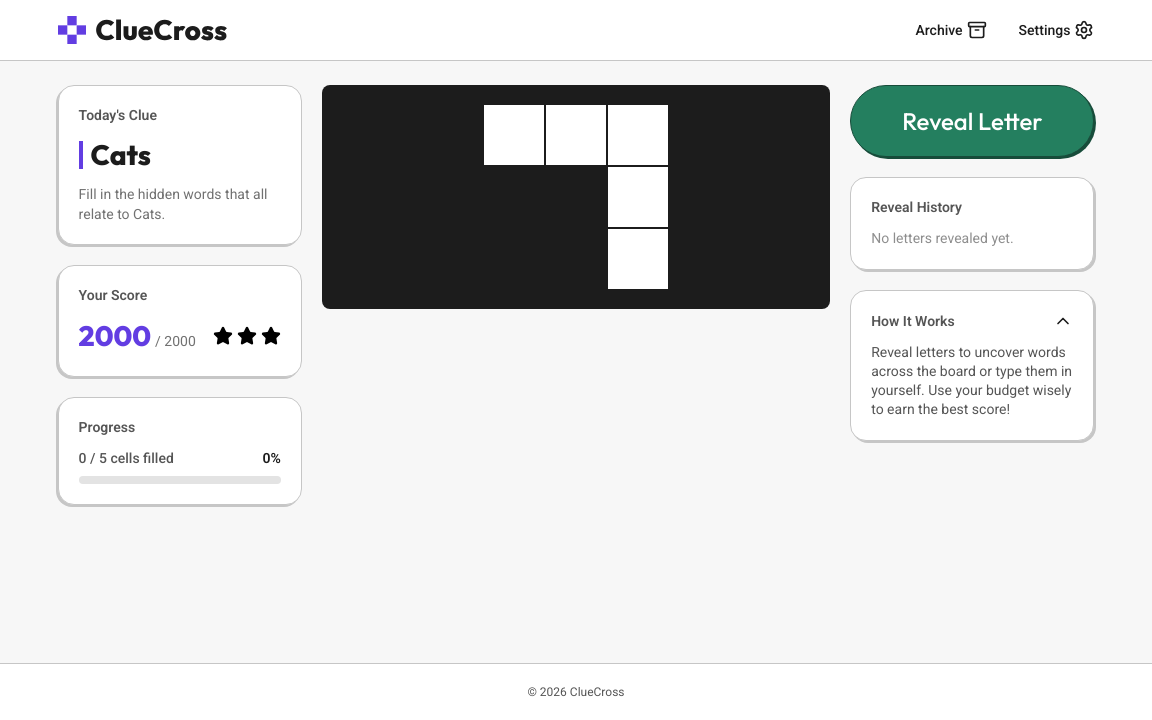
Test: impossible-letter alert › clears immediately when the same cell gets an eligible letter
Step 1. Click the button "Reveal Letter" → click(972, 121), box [850,85,1094,157]
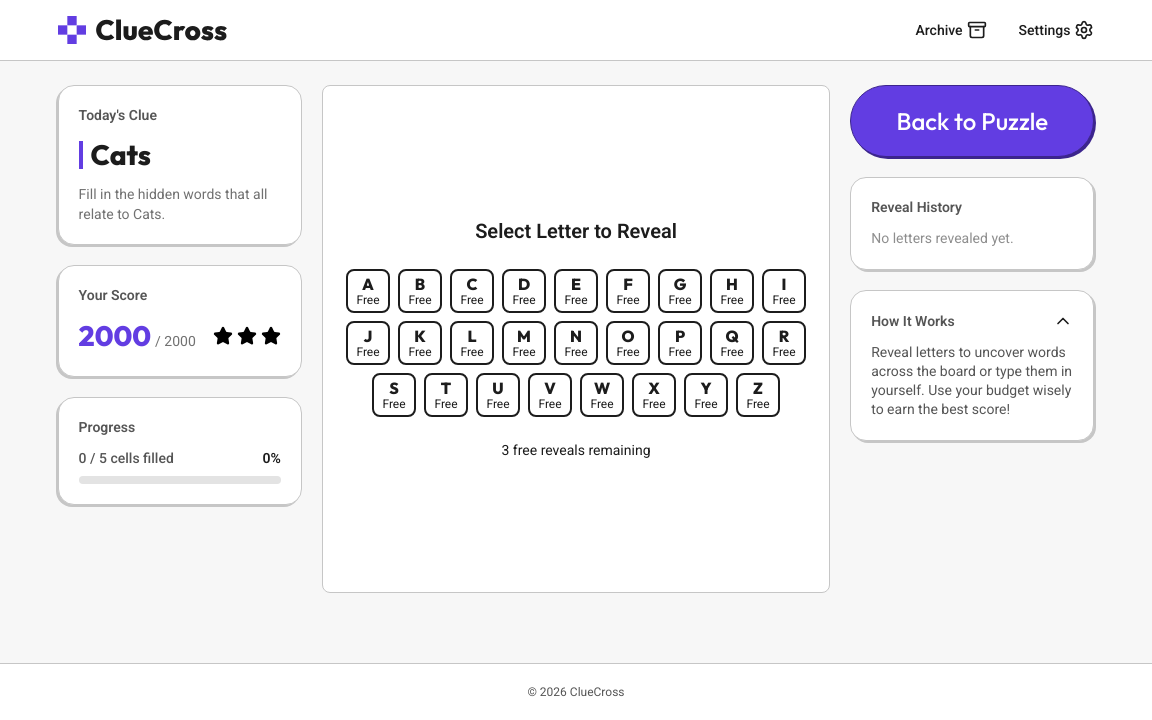
Step 2. Click the button with test id "letter-A" → click(368, 291), box [346,269,390,313]
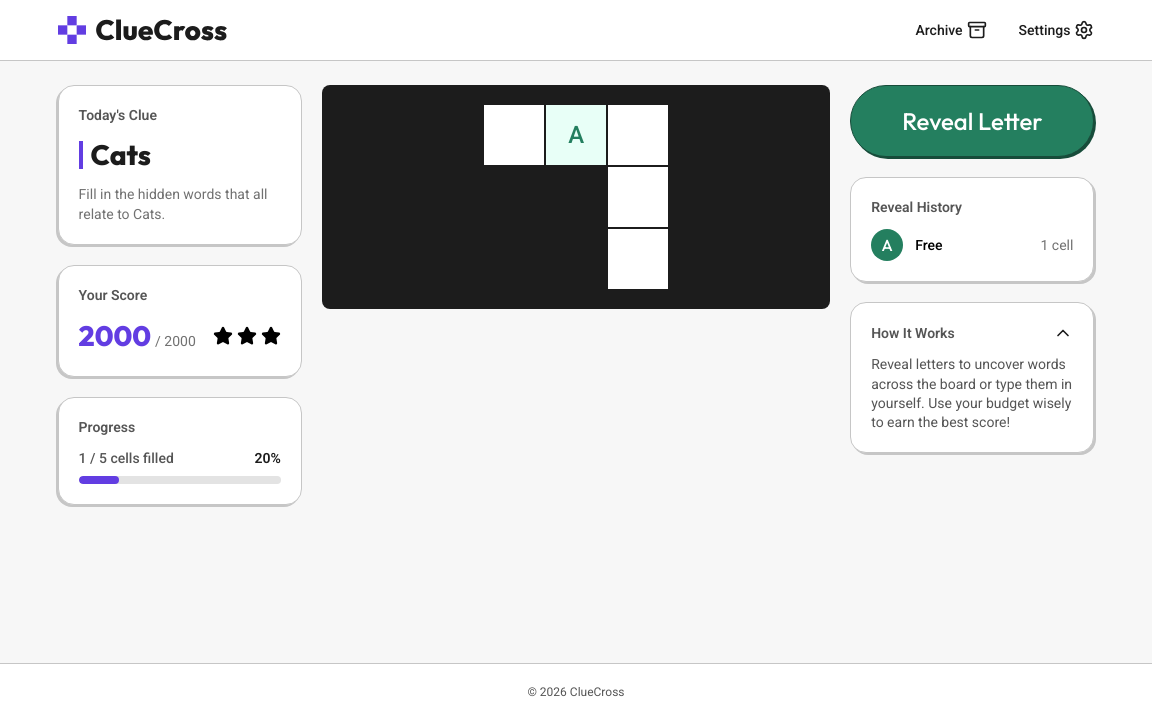
Step 3. Click the 4th field named "Editable, empty" → click(638, 259), box [608,229,668,289]
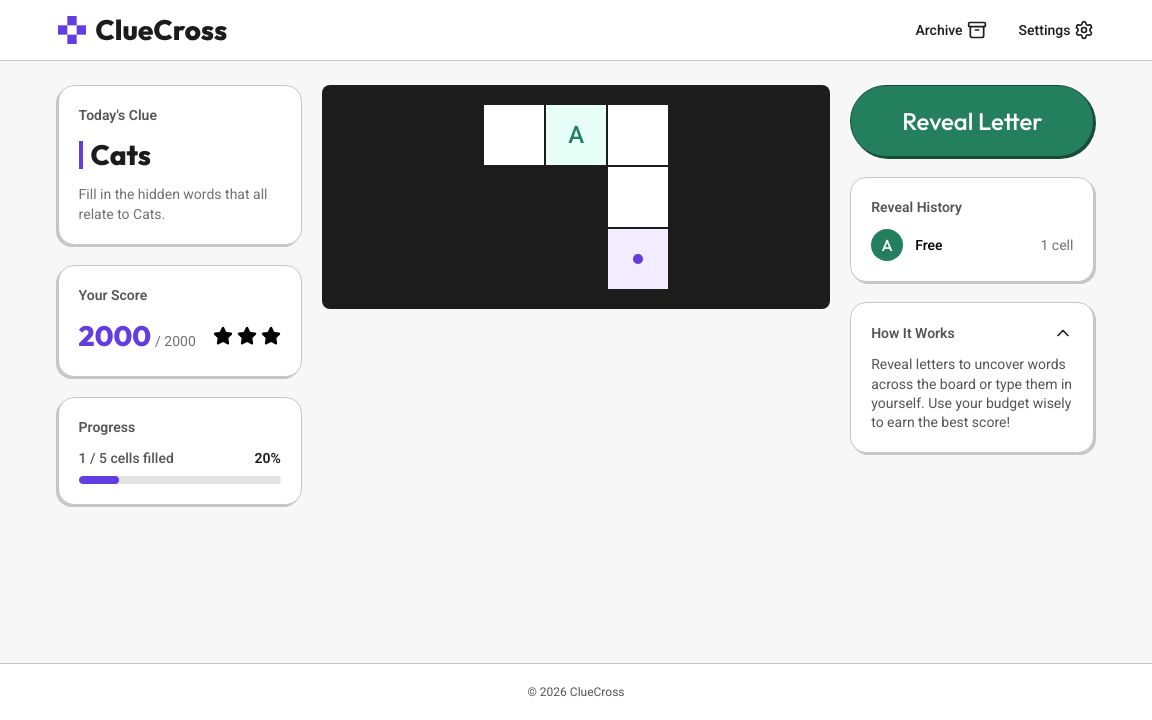
Step 4. Type keys "A"
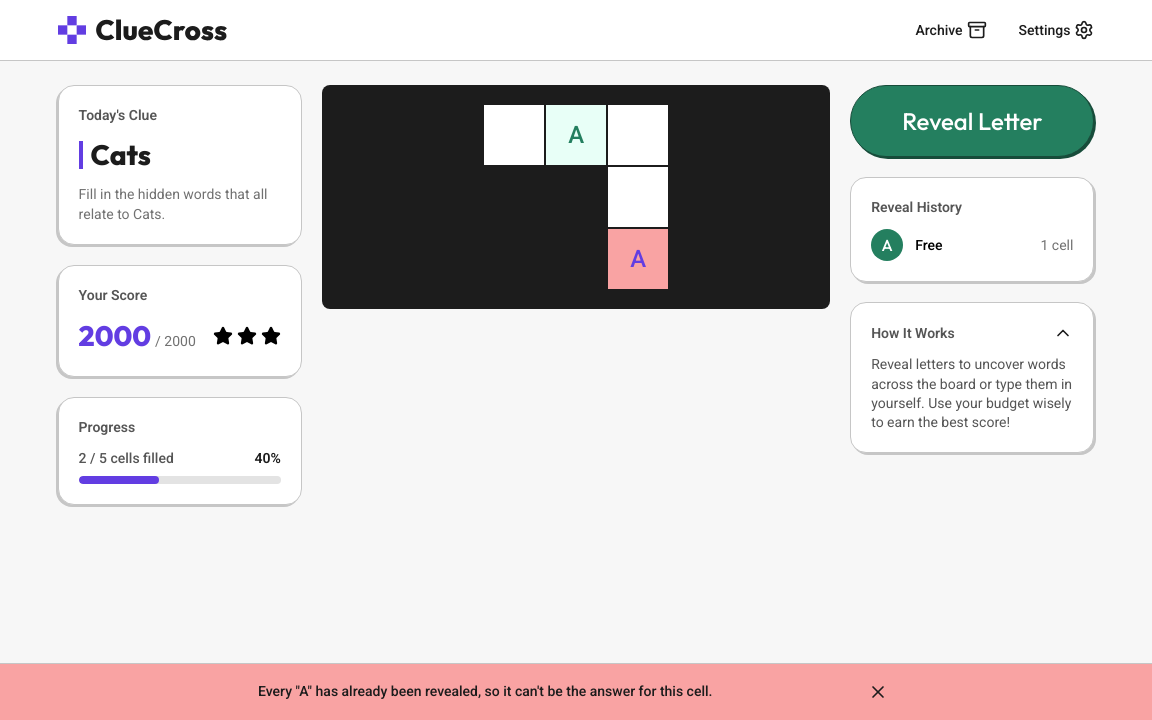
Check: the text "has already been revealed" is shown, box [258,683,712,699]
Step 5. Type keys "E"
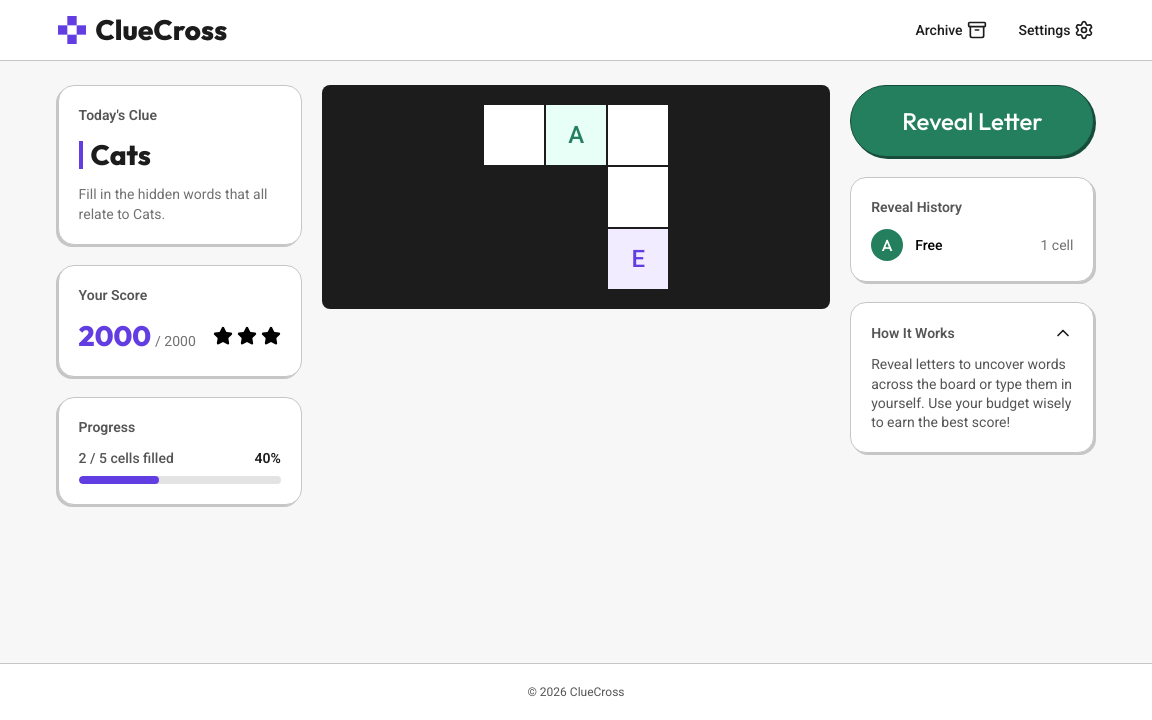
Check: the text "has already been revealed" is gone
